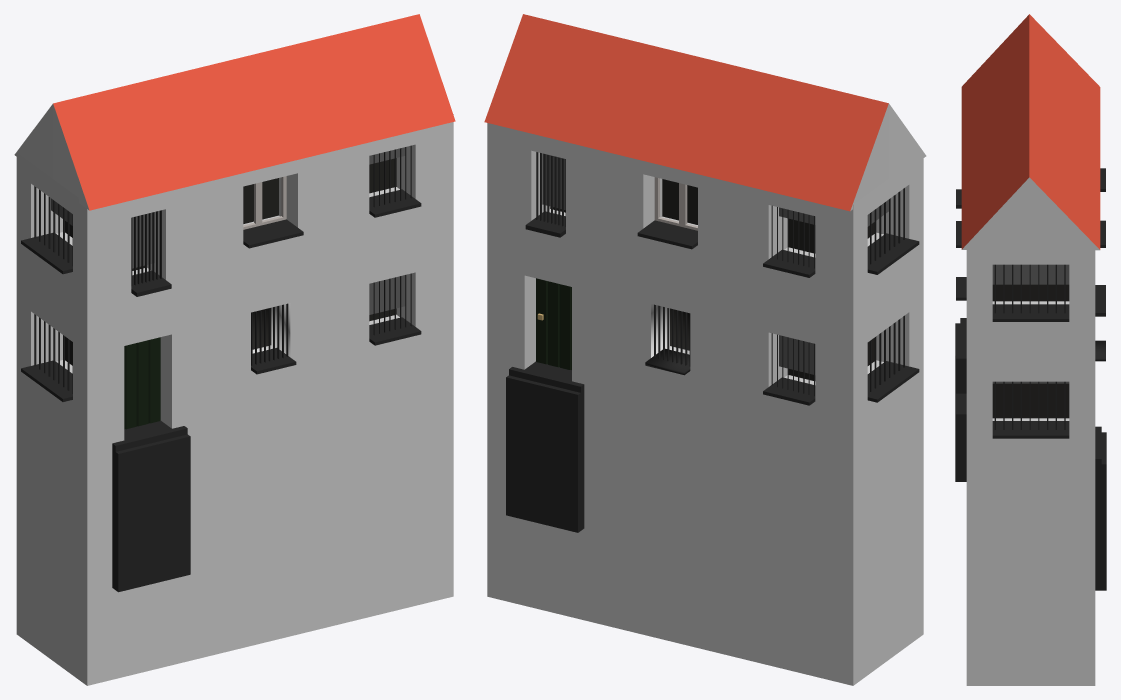
File: casa_procedural_relleno_Con sotano_5.fbx
3 views of the same model, side by side, from view 1: azimuth 30°, elevation 25°; view 2: azimuth 150°, elevation 25°; view 3: azimuth 270°, elevation 25° (orthographic). The views are drawn at different scales.
Parts seen in each view (by area): view 1: casa procedural_relleno_Con sotano_5; view 2: casa procedural_relleno_Con sotano_5; view 3: casa procedural_relleno_Con sotano_5.
Part boxes in pixels (box(x1,y1,x2,y2)): casa procedural_relleno_Con sotano_5: box(14, 14, 455, 685); casa procedural_relleno_Con sotano_5: box(484, 14, 926, 685); casa procedural_relleno_Con sotano_5: box(955, 14, 1106, 685).
Size of the model in its own units: 316 by 436 by 118.
